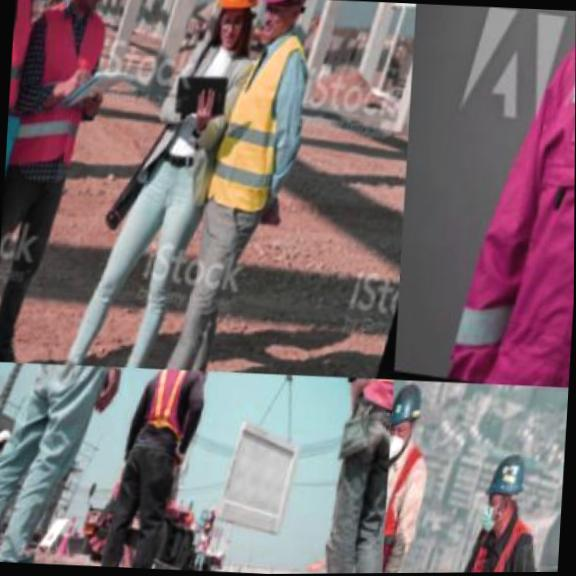safety_vest: (446, 5, 576, 387), (207, 30, 325, 234), (4, 0, 128, 181), (381, 442, 440, 573), (5, 0, 53, 156), (445, 520, 558, 573), (139, 368, 209, 452), (0, 447, 11, 511)
